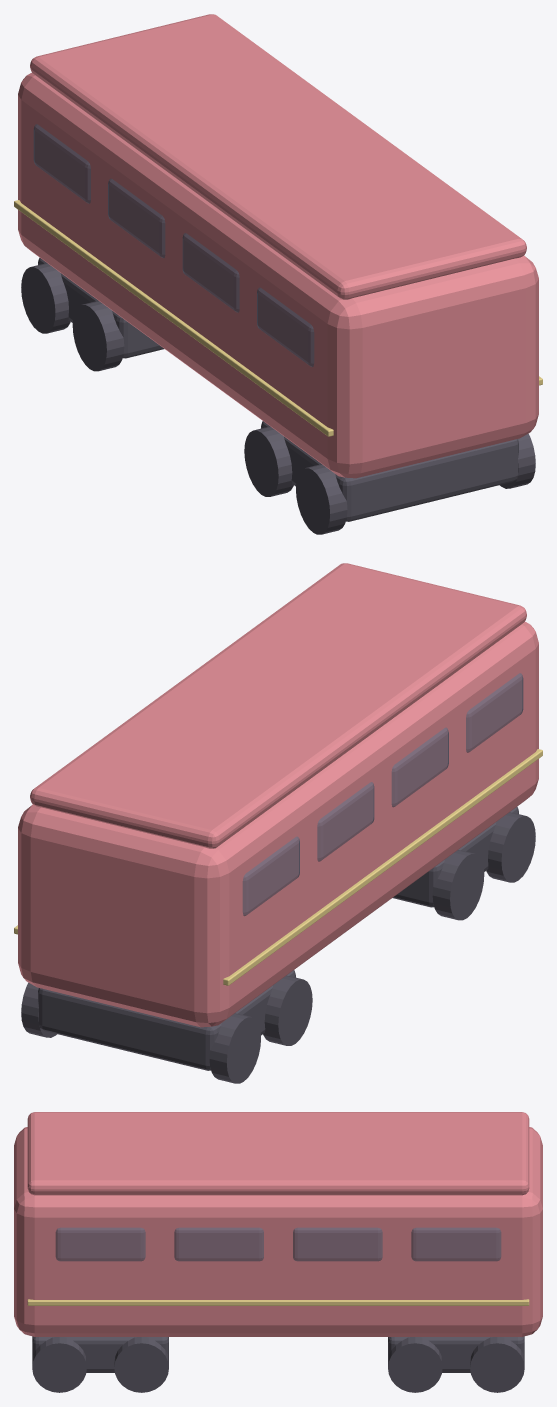
Rendered from TrainCar.fbx.
The picture shows the model from 3 angles, top to bottom: view 1: azimuth 30°, elevation 25°; view 2: azimuth 150°, elevation 25°; view 3: azimuth 270°, elevation 25°; orthographic projection. The views are drawn at different scales.
Parts seen in each view (by area): view 1: TrainCar_Body, TrainCar_Dark, TrainCar_Glass, TrainCar_Gold; view 2: TrainCar_Body, TrainCar_Dark, TrainCar_Glass, TrainCar_Gold; view 3: TrainCar_Body, TrainCar_Dark, TrainCar_Glass, TrainCar_Gold.
Boxes of the visible parts, x1,y1,x2,y2 form: TrainCar_Body: (18,14,538,478); TrainCar_Dark: (21,257,535,534); TrainCar_Glass: (33,124,314,366); TrainCar_Gold: (14,200,542,436); TrainCar_Body: (18,563,538,1027); TrainCar_Dark: (21,806,535,1083); TrainCar_Glass: (242,673,523,915); TrainCar_Gold: (14,749,542,985); TrainCar_Body: (14,1112,542,1336); TrainCar_Dark: (32,1336,524,1392); TrainCar_Glass: (55,1227,501,1261); TrainCar_Gold: (27,1299,529,1305).
Size of the model in its own units: 4.34 by 5 by 11.6.
